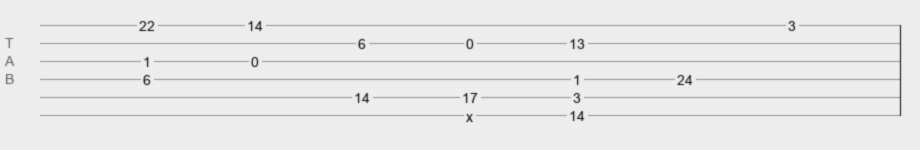0: (251, 54, 259, 64), (466, 36, 474, 46)
1: (143, 54, 151, 64), (573, 72, 581, 82)
13: (569, 36, 585, 46)
14: (247, 18, 263, 28), (354, 90, 370, 100), (569, 108, 585, 118)
17: (462, 90, 478, 100)
22: (139, 18, 155, 28)
24: (677, 72, 693, 82)
3: (573, 90, 581, 100), (788, 18, 796, 28)
6: (143, 72, 151, 82), (358, 36, 366, 46)
x: (466, 109, 473, 117)
